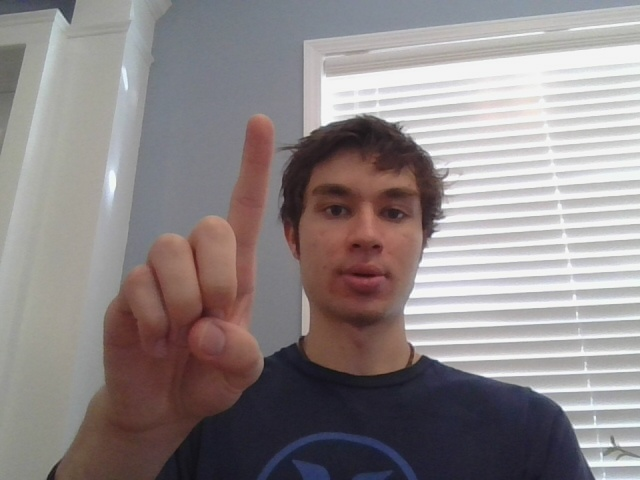d: (95, 107, 285, 398)
